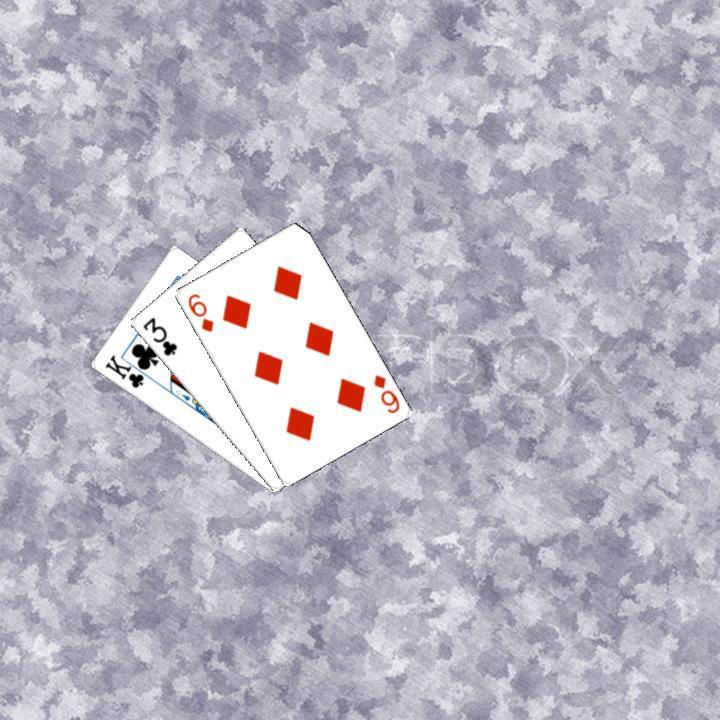3: (138, 313, 179, 358)
6: (369, 370, 401, 416), (183, 289, 215, 334)
K: (100, 350, 154, 390)
